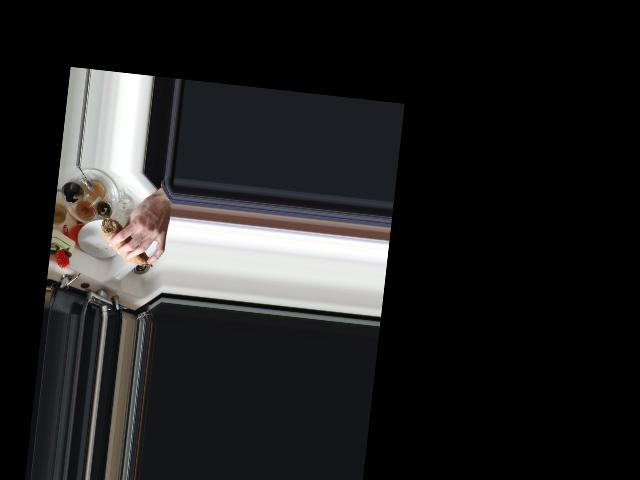sweet_potato: (99, 218, 158, 267)
